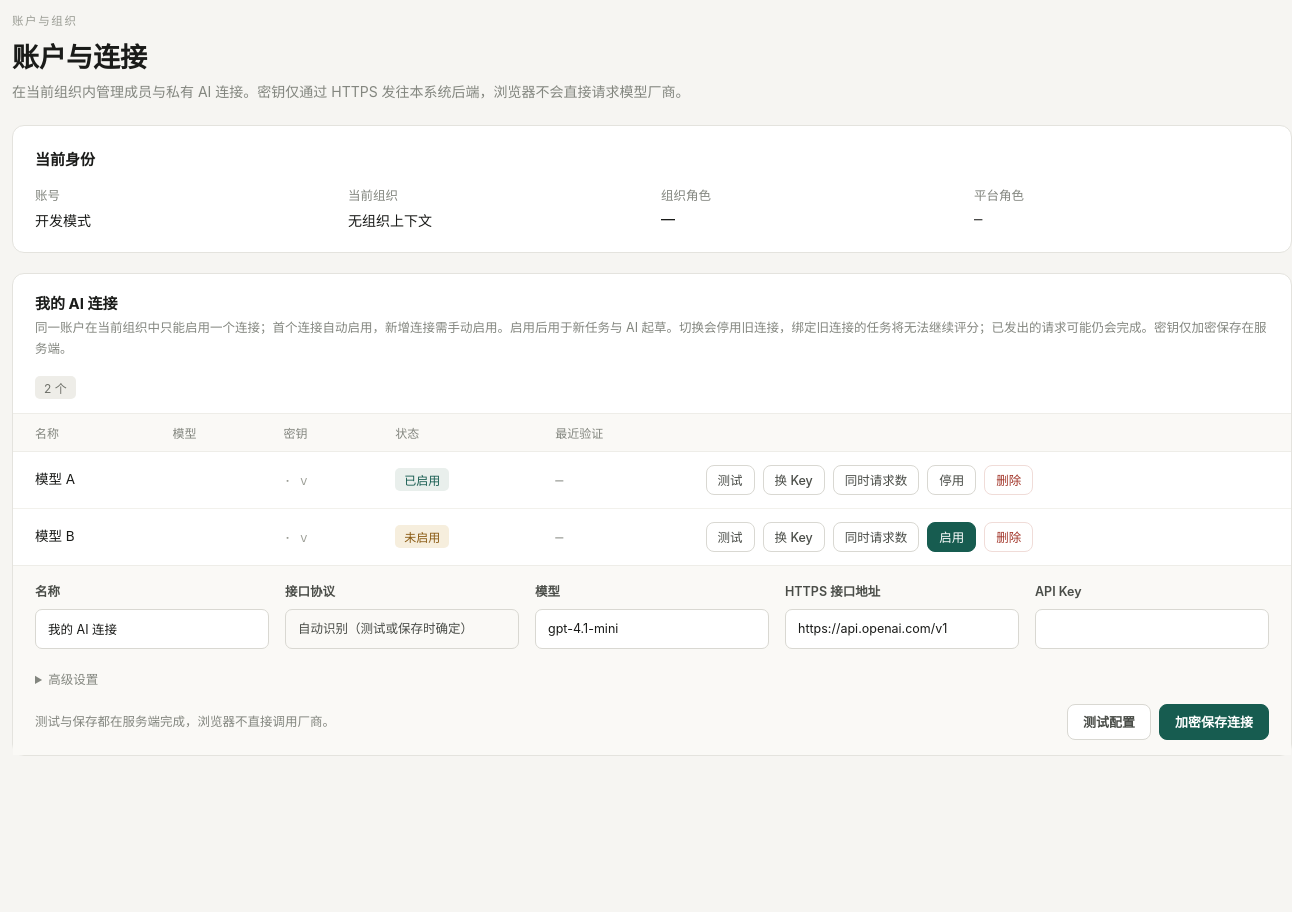
Scenario: 显示唯一启用连接，切换后刷新全部连接和能力
Click the button "启用". click: coordinates (952, 536)
box: [927,522,976,552]
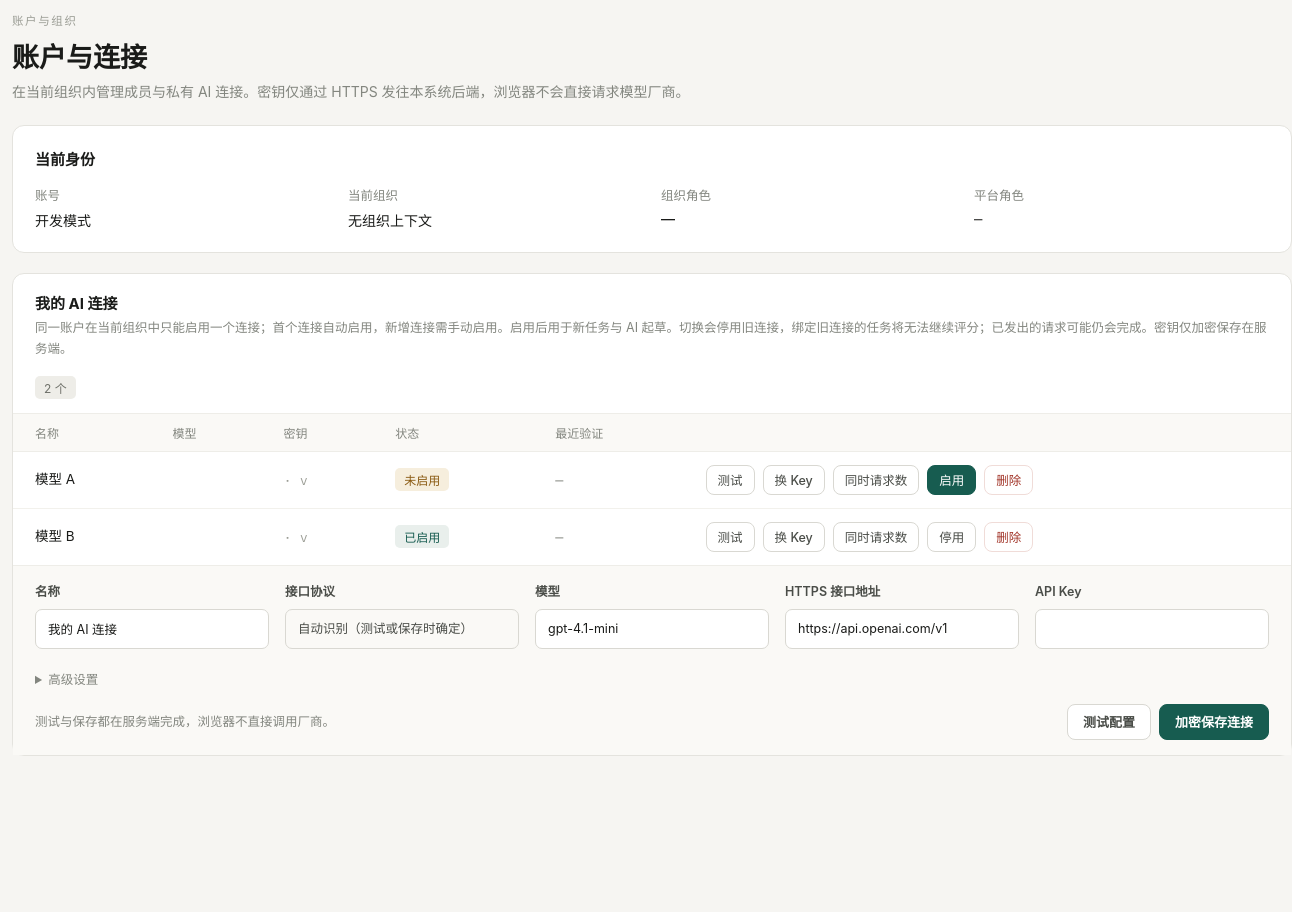
Check: the row "模型 A · v 未启用 — 测试 换 Key 同时请求数 启用 删除" is shown, box [13,451,1291,508]
Check: the row "模型 B · v 已启用 — 测试 换 Key 同时请求数 停用 删除" is shown, box [13,508,1291,564]
